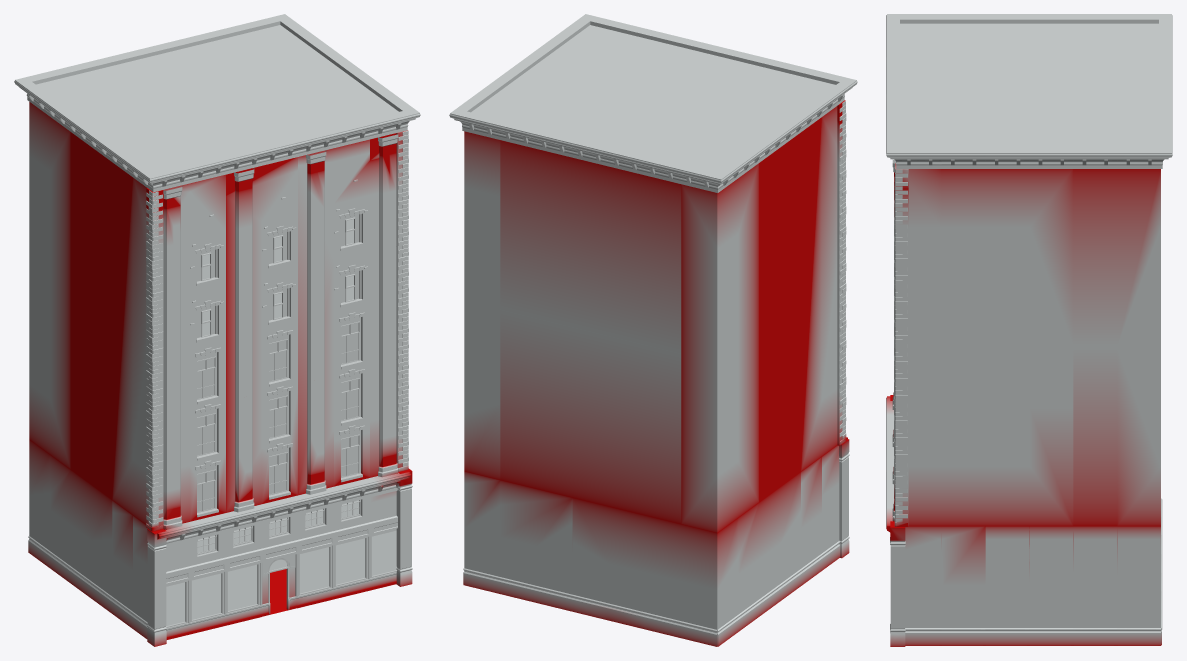
Rendered from building-medium-2.glb.
3 views of the same model, side by side, from view 1: azimuth 30°, elevation 25°; view 2: azimuth 150°, elevation 25°; view 3: azimuth 270°, elevation 25° (orthographic). The views are drawn at different scales.
Parts seen in each view (by area): view 1: Building_Medium_2.001; view 2: Building_Medium_2.001; view 3: Building_Medium_2.001.
Part boxes in pixels (box(x1,y1,x2,y2)): Building_Medium_2.001: box(14, 14, 420, 646); Building_Medium_2.001: box(449, 14, 857, 646); Building_Medium_2.001: box(886, 14, 1172, 646).
Size of the model in its own units: 15.06 by 25.01 by 13.06.
